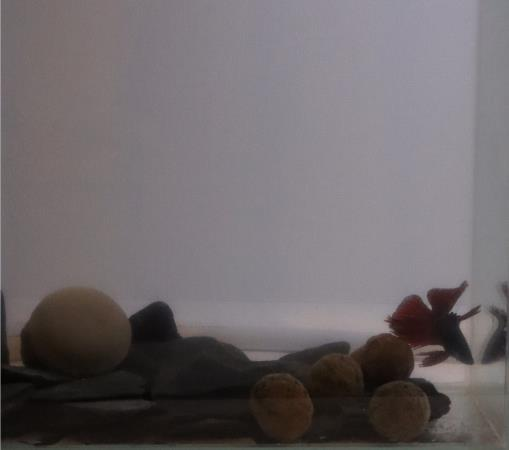fish: (383, 280, 479, 372)
